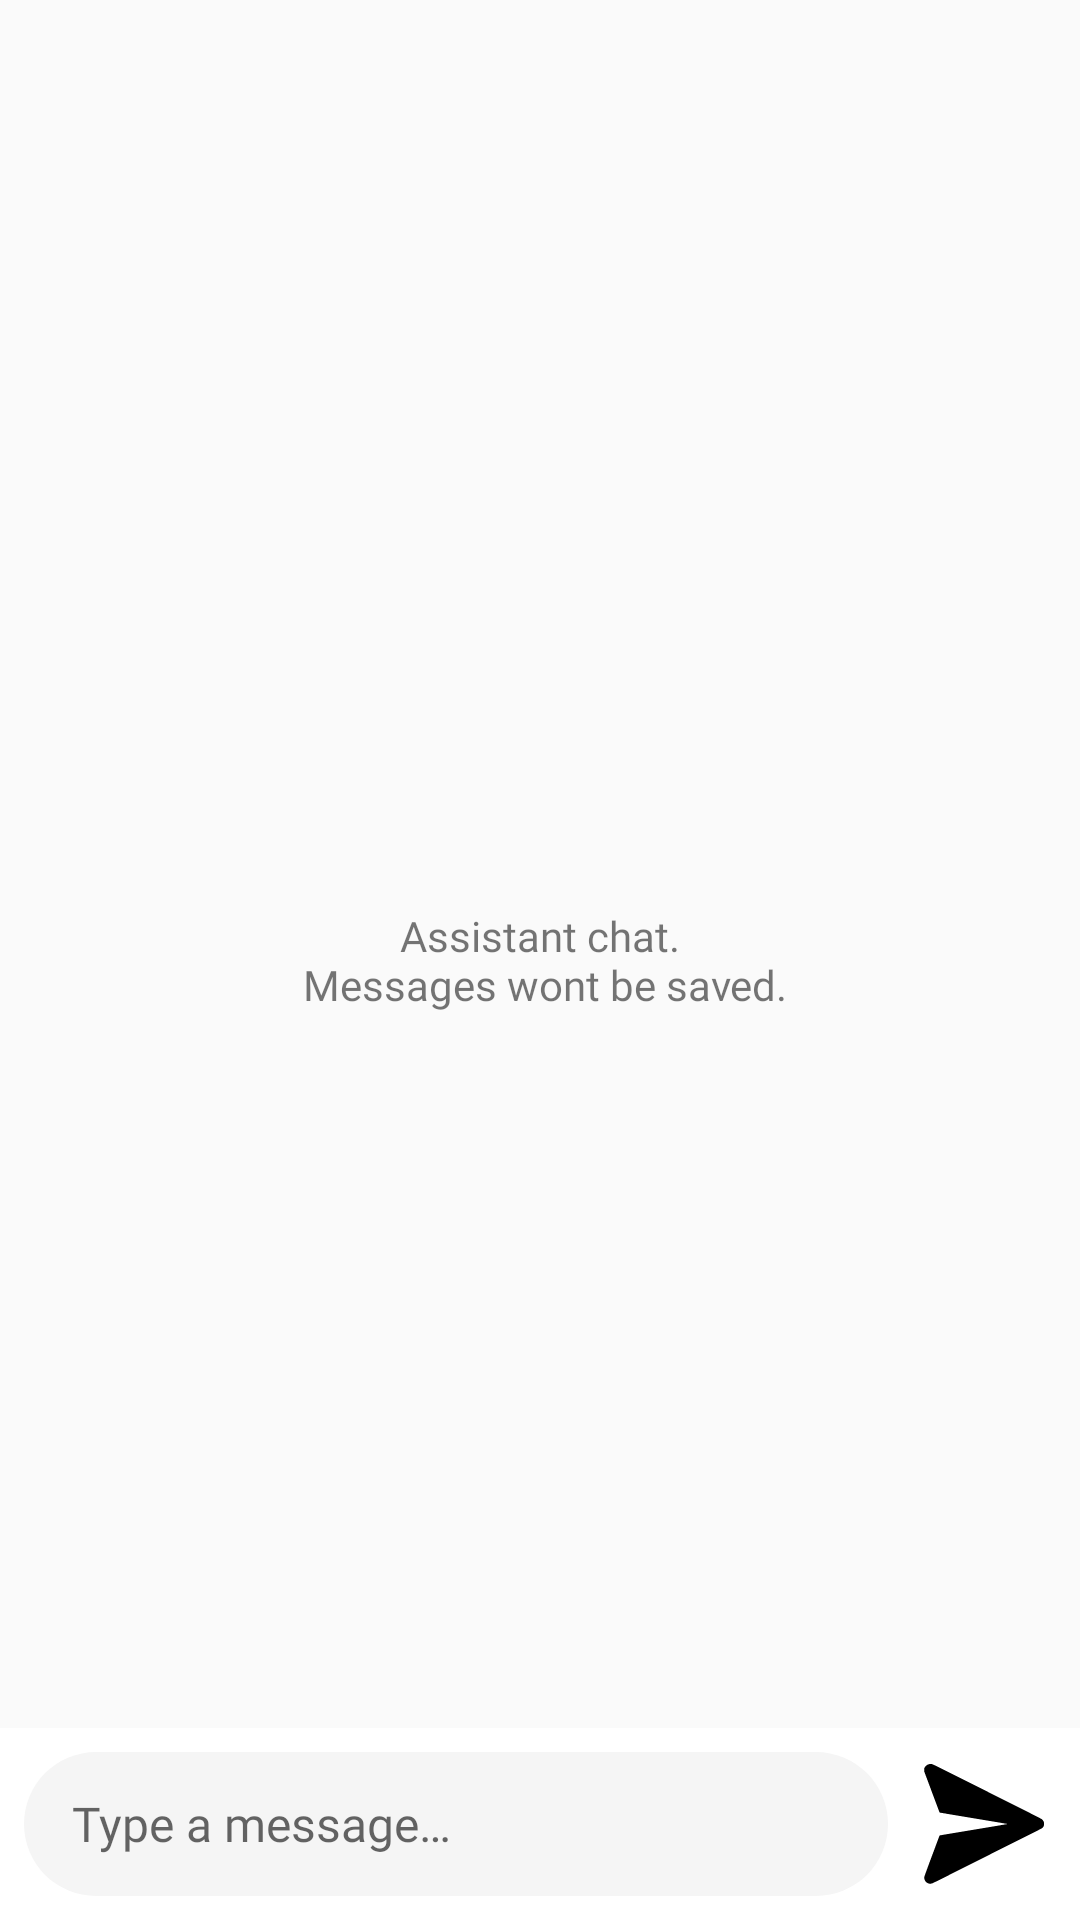

Locate icon controls on the screen. Image size 1080 x 1920, boxes as (x1=x1, y1=y1, x2=x2, y2=y2).
send: (x1=924, y1=1764, x2=1044, y2=1884)
